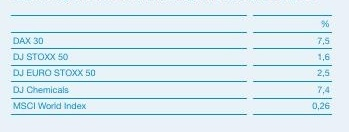table: (0, 0, 349, 132)
